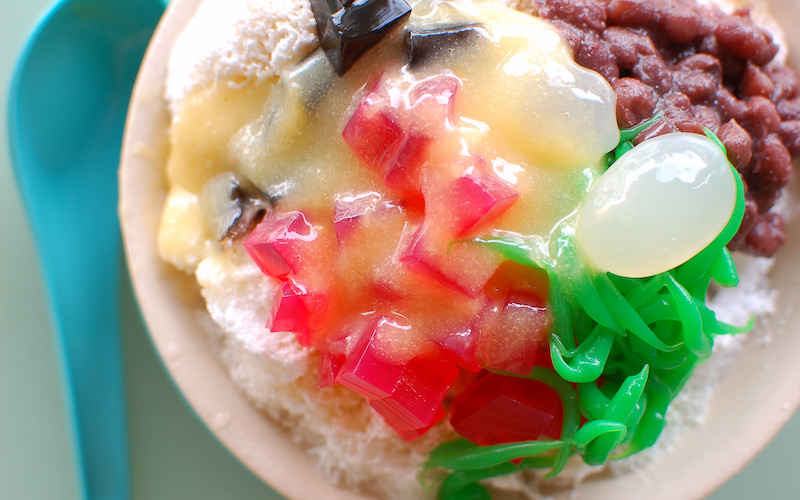Chendol: (200, 1, 777, 453)
